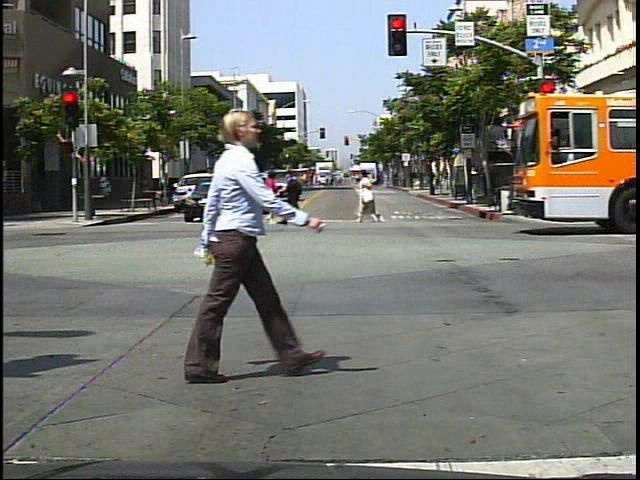person: (156, 91, 324, 391), (282, 163, 316, 218), (354, 166, 383, 227), (552, 160, 574, 211), (261, 168, 282, 205)
